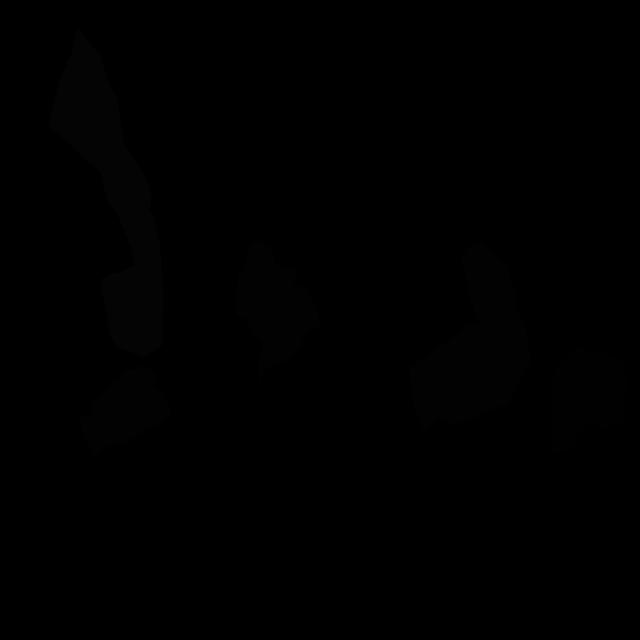cardboard: (409, 302, 531, 431), (235, 240, 322, 384), (79, 364, 172, 456), (460, 241, 517, 323)
rigid_plastic: (550, 346, 628, 454)
soft_plastic: (48, 28, 164, 357)
